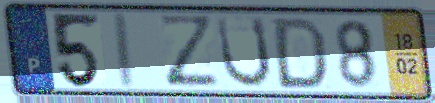5: (48, 11, 102, 90)
8: (333, 17, 381, 91)
D: (272, 15, 329, 92)
I: (114, 9, 139, 92)
U: (214, 14, 274, 90)
Z: (155, 12, 224, 90)
